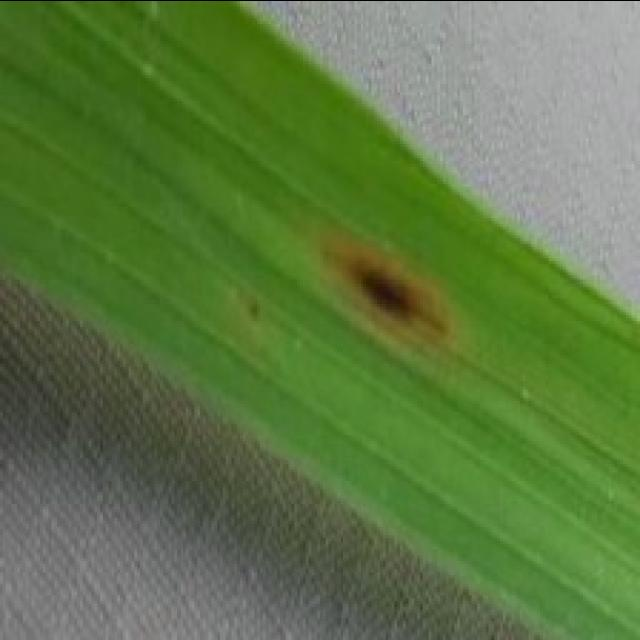Unhealthy: (323, 234, 457, 356)
